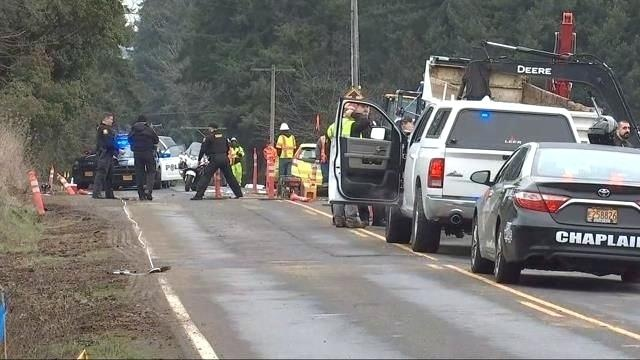none: (613, 116, 633, 141), (98, 110, 115, 128), (355, 97, 371, 116), (398, 114, 414, 132), (205, 120, 219, 135), (135, 114, 147, 128)
white: (278, 121, 290, 134), (229, 136, 238, 146)
